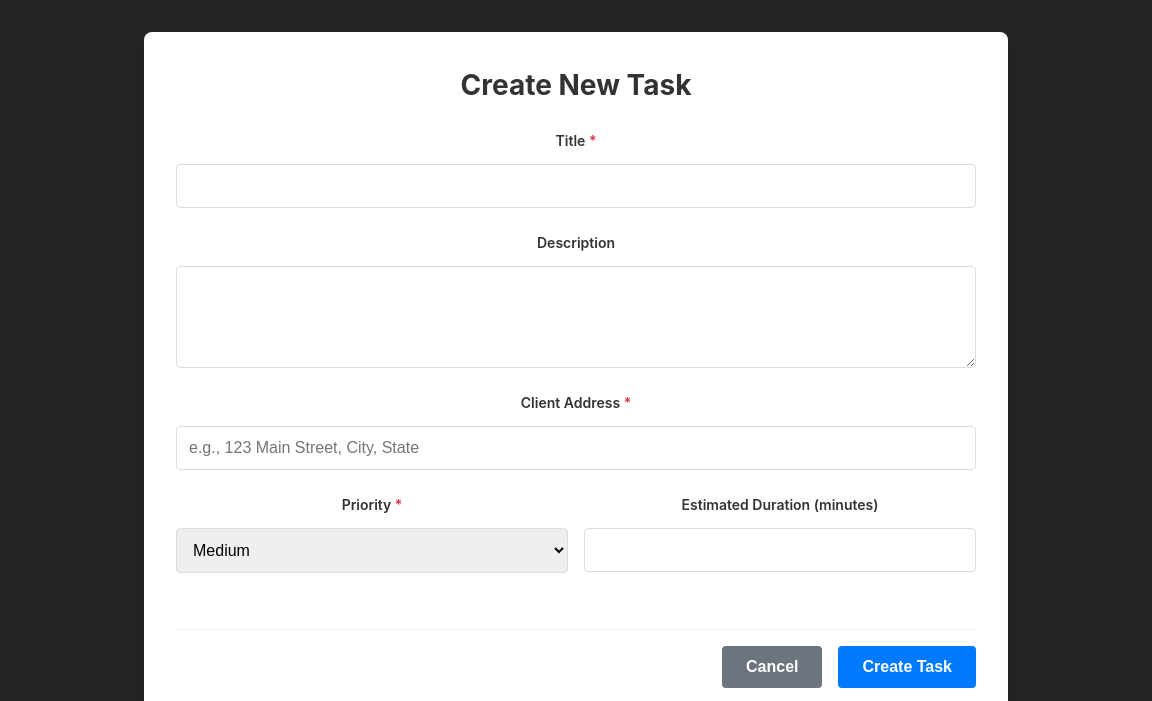
TaskForm Component › should show validation error when address is empty
The image size is (1152, 701).
Type "Valid Title" into the field labelled "Title *" at (576,186), box x1=176 y1=164 x2=976 y2=208
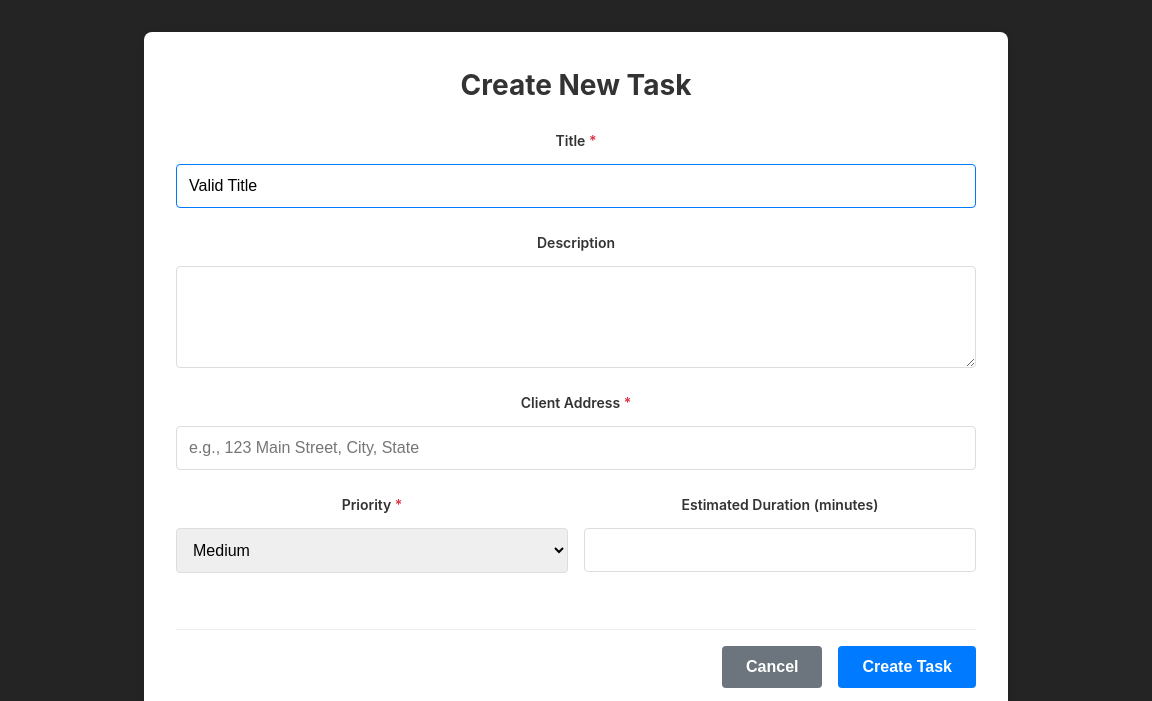
Click the button "Create Task" at (907,667), box x1=838 y1=646 x2=976 y2=688
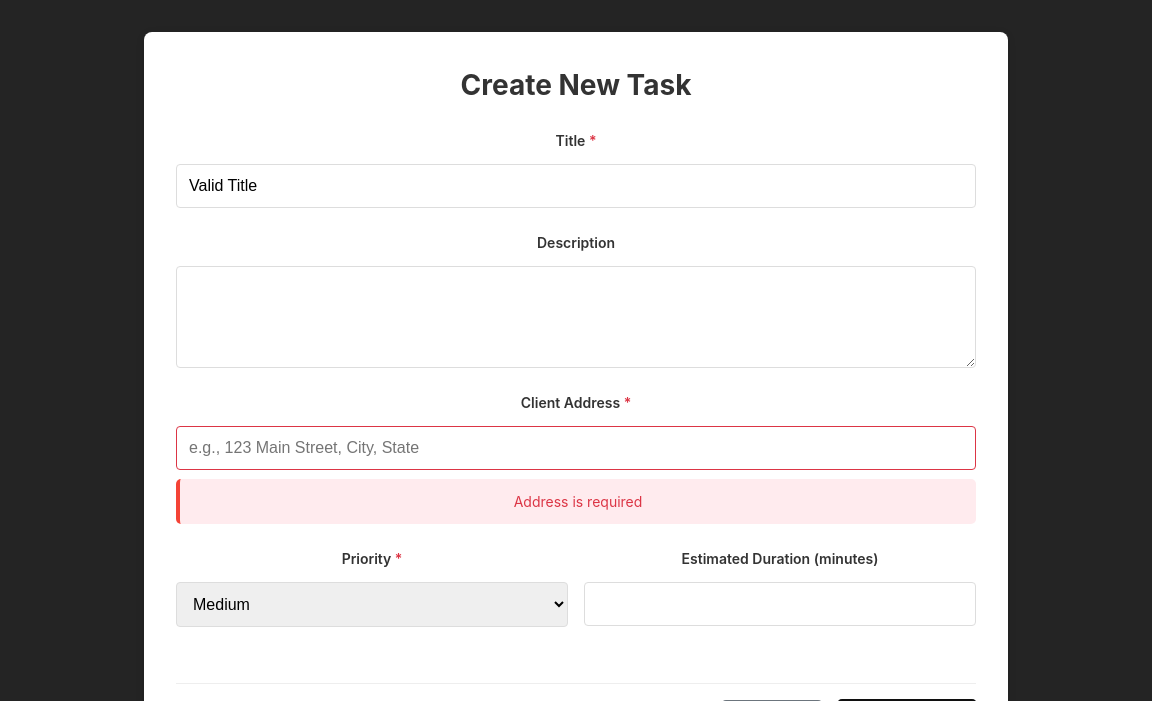
Result: the text "Address is required" is shown at x1=176 y1=479 x2=976 y2=524
